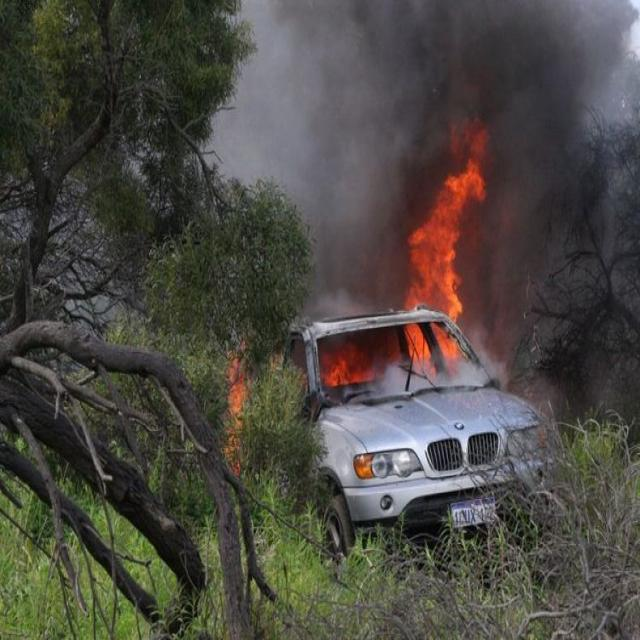Fire: (402, 150, 486, 366), (316, 334, 376, 388), (224, 344, 248, 473)
Smoke: (235, 0, 640, 404)
